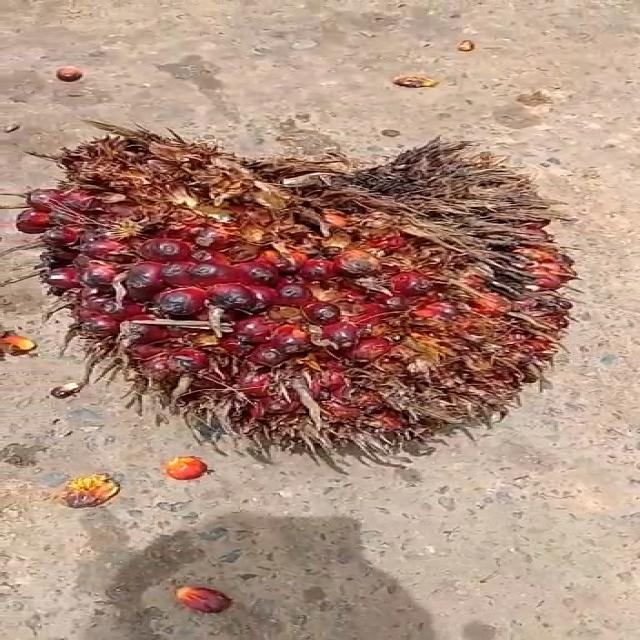palm oil: (52, 123, 590, 471)
